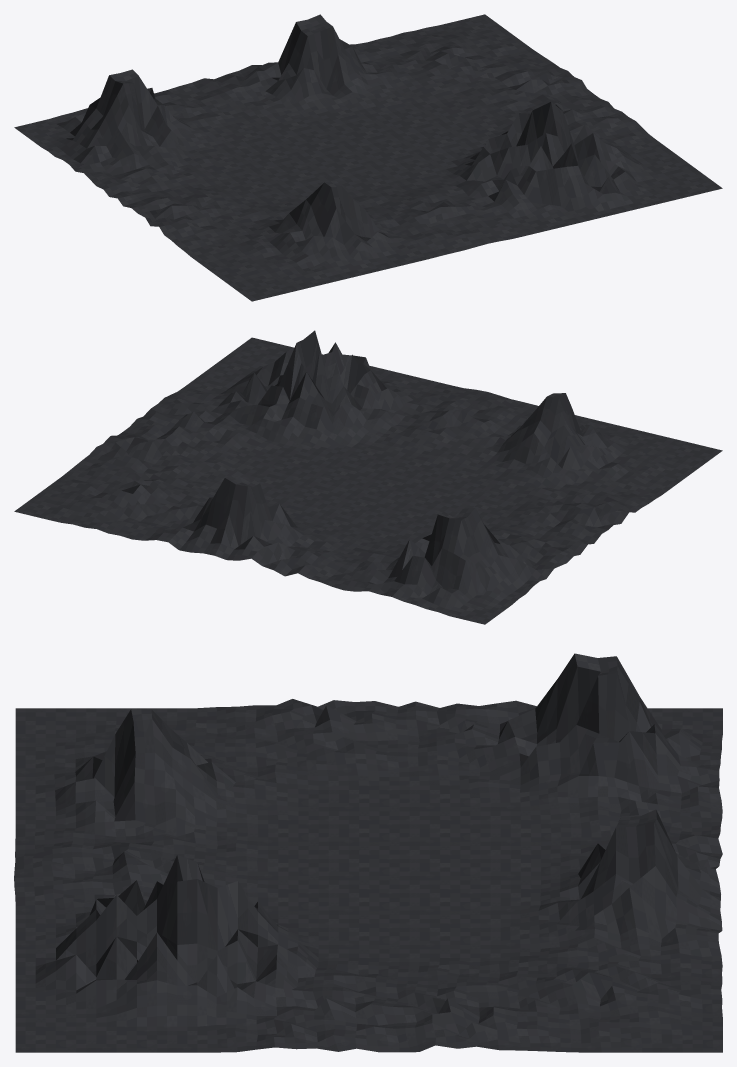
The model's file is ground.glb.
3 views of the same model, one above another, from view 1: azimuth 30°, elevation 25°; view 2: azimuth 150°, elevation 25°; view 3: azimuth 270°, elevation 25° (orthographic). The views are drawn at different scales.
Parts seen in each view (by area): view 1: WorldFar; view 2: WorldFar; view 3: WorldFar.
Part boxes in pixels (x1,y1,x2,y2): WorldFar: (14,14,722,301); WorldFar: (14,330,722,624); WorldFar: (14,653,722,1052).
Size of the model in its own units: 62.54 by 9.6 by 54.81.
1 material, 1 textured.
